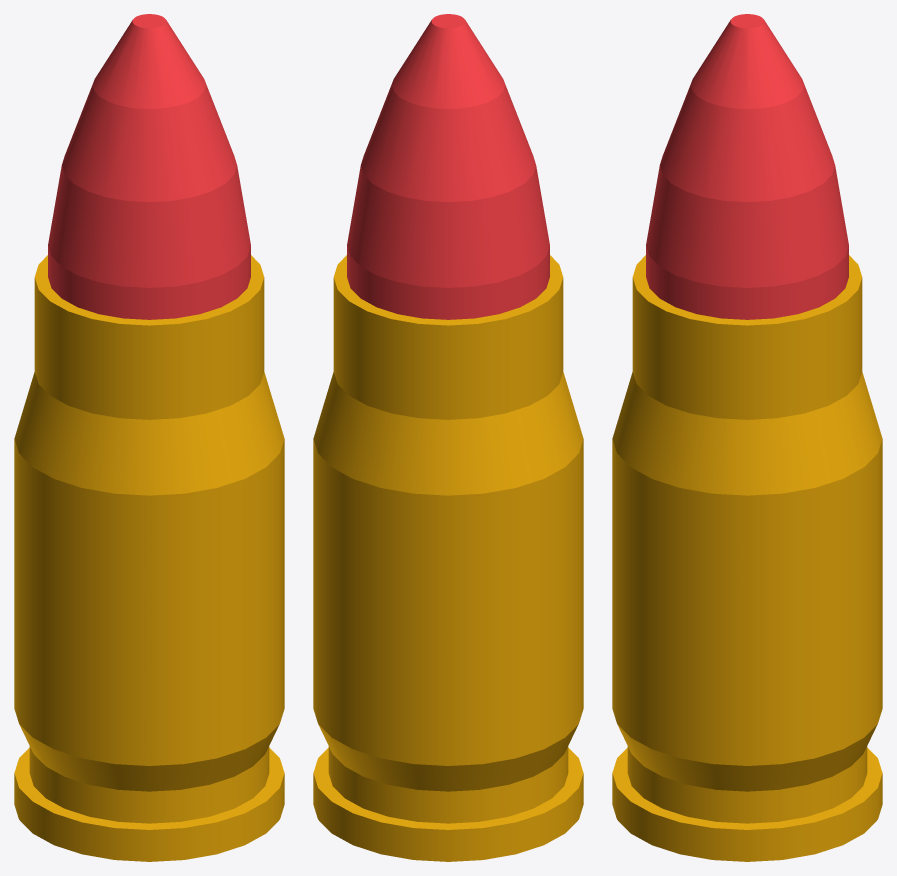
Rendered from ammo_machinegun.obj.
3 renders of one model, left to right at view 1: azimuth 30°, elevation 25°; view 2: azimuth 150°, elevation 25°; view 3: azimuth 270°, elevation 25°, orthographic.
Visible parts, largest first — view 1: Group; view 2: Group; view 3: Group.
Part boxes in pixels (left/top/right/bottom): Group: left=14, top=14, right=284, bottom=861; Group: left=313, top=14, right=583, bottom=861; Group: left=612, top=14, right=882, bottom=861.
Bounding box in the file's own units: 0.0293 × 0.0938 × 0.0293.
